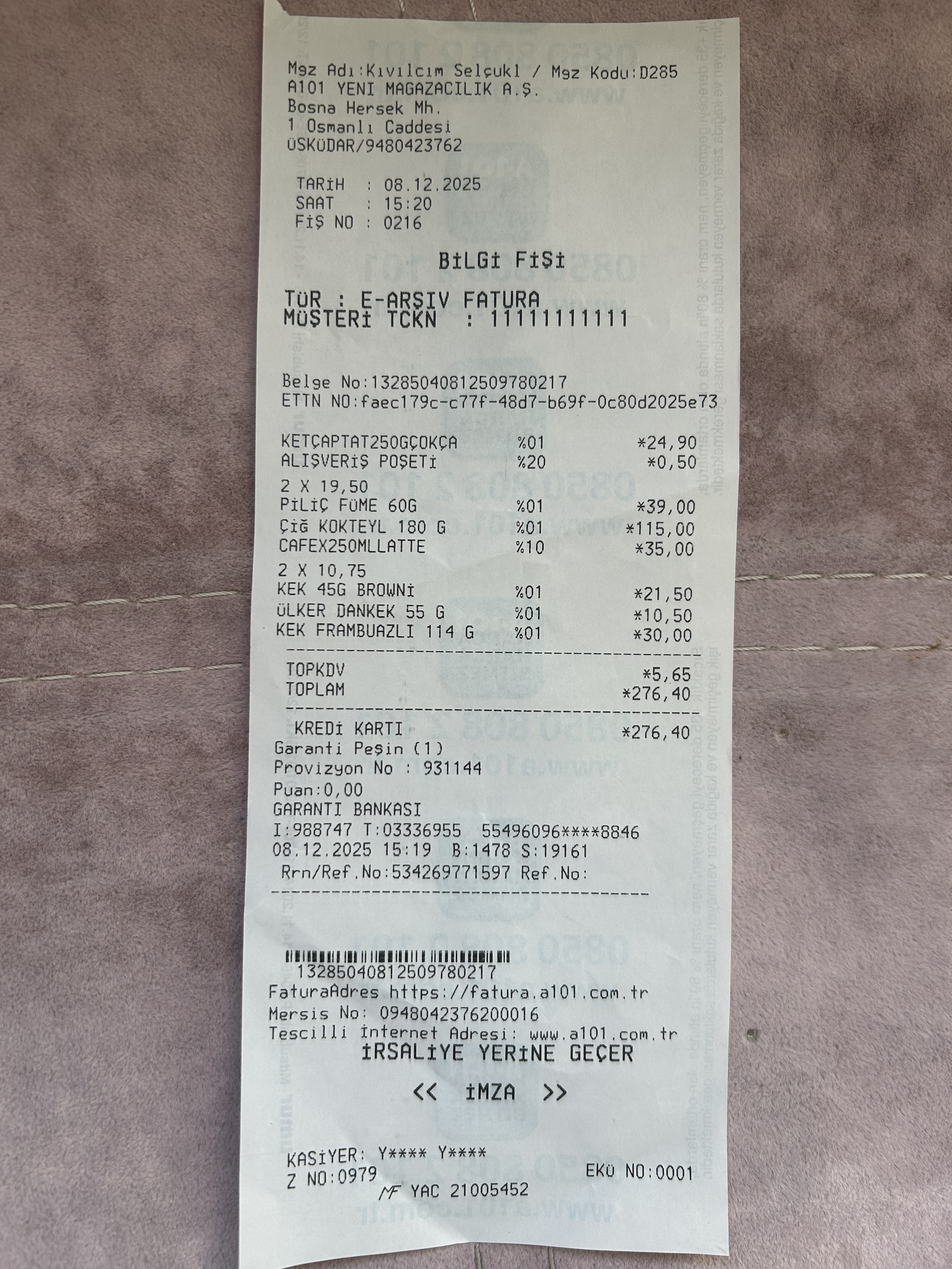date: (379, 169, 482, 194)
price: (631, 680, 695, 706)
workplace: (280, 50, 684, 136)
